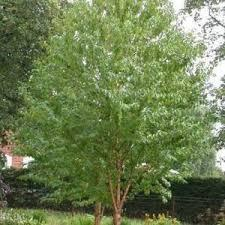tree: (15, 1, 216, 225)
